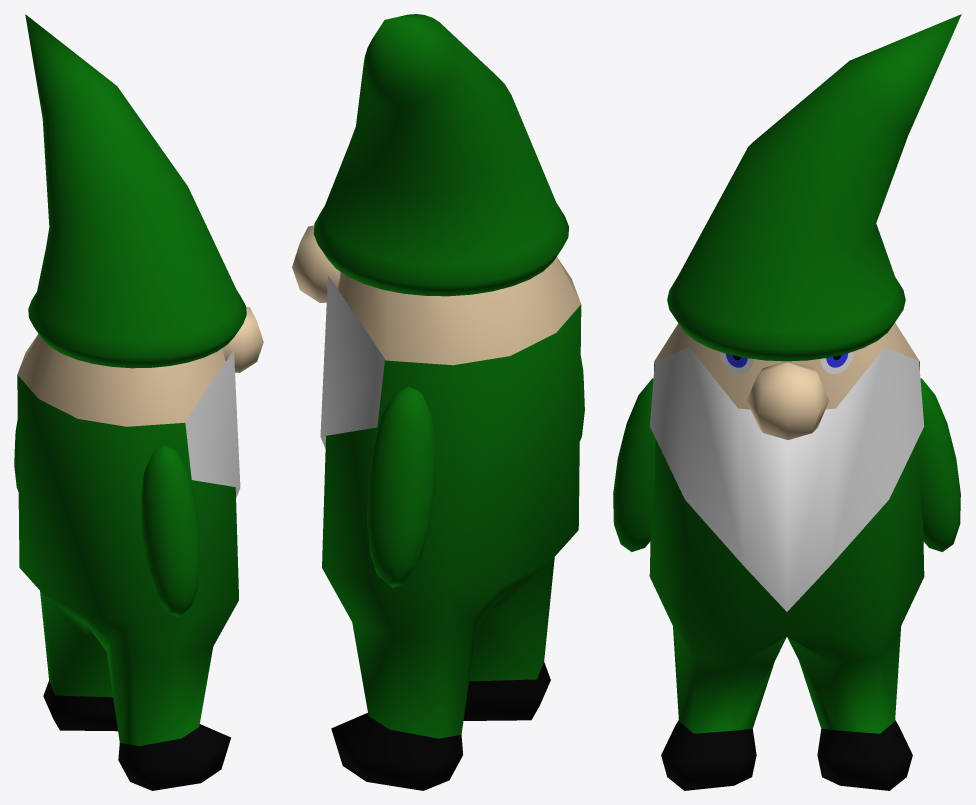
File: GronnNiseBein.gltf
3 views of the same model, side by side, from view 1: azimuth 30°, elevation 25°; view 2: azimuth 150°, elevation 25°; view 3: azimuth 270°, elevation 25° (orthographic). The views are drawn at different scales.
Visible parts, largest first — view 1: Cube.024; view 2: Cube.024; view 3: Cube.024.
Part boxes in pixels (left/top/right/bottom): Cube.024: left=14, top=14, right=263, bottom=790; Cube.024: left=292, top=14, right=584, bottom=790; Cube.024: left=613, top=14, right=961, bottom=790.
Size of the model in its own units: 5.68 by 16.73 by 7.12.
